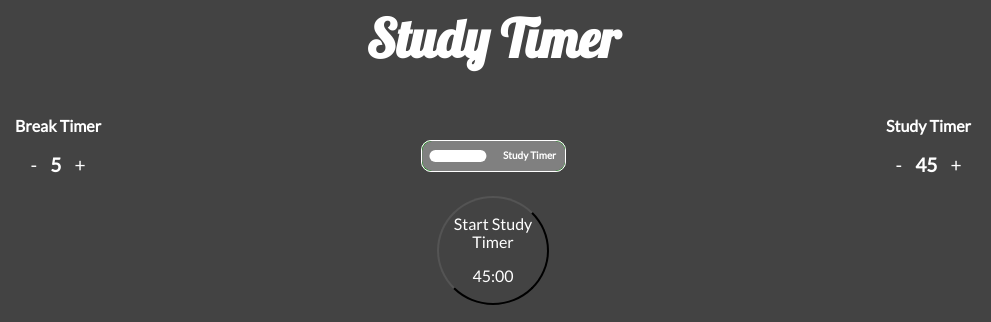
Test case: Pomodoro Clock › can decrease/increase study time
Expected: the text with test id "study-length-controls-value" reads "45", [915,153,938,176]
Click the button with test id "study-length-controls-decrement" at (899, 165), box [882,135,915,196]
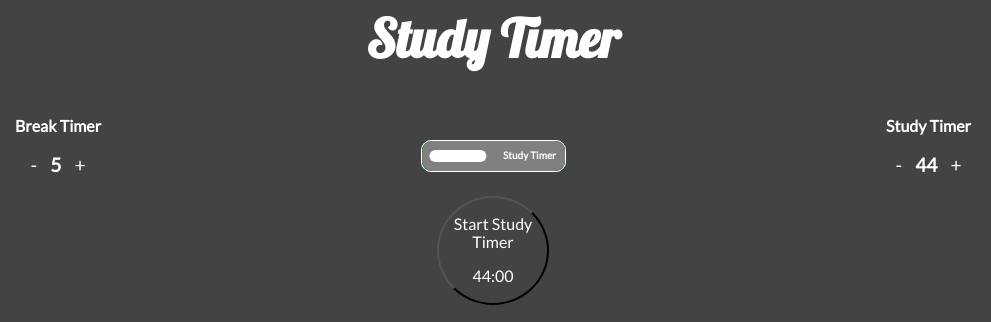
Expected: the text with test id "study-length-controls-value" reads "44", [915,153,938,176]
Click the button with test id "study-length-controls-increment" at (956, 165), box [937,135,974,196]
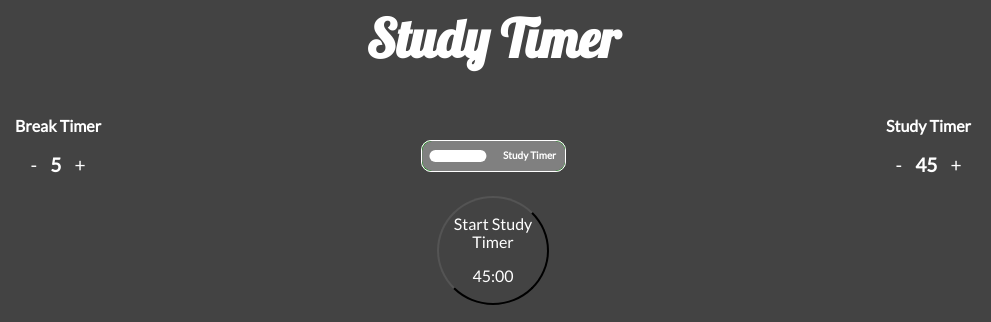
Click the button with test id "study-length-controls-increment" at (956, 165), box [937,135,974,196]
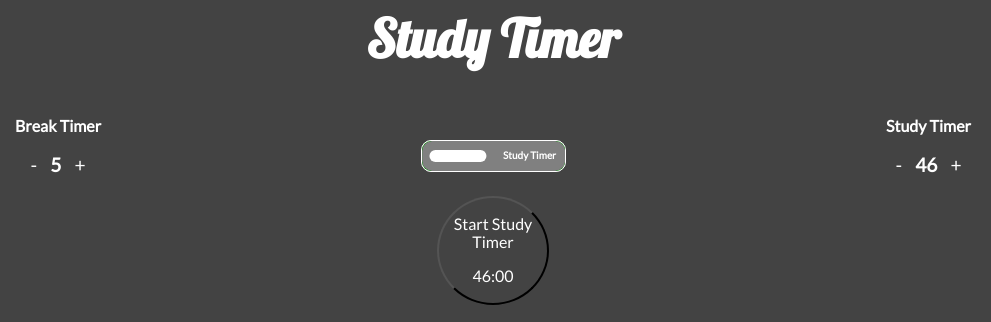
Expected: the text with test id "study-length-controls-value" reads "46", [915,153,938,176]
